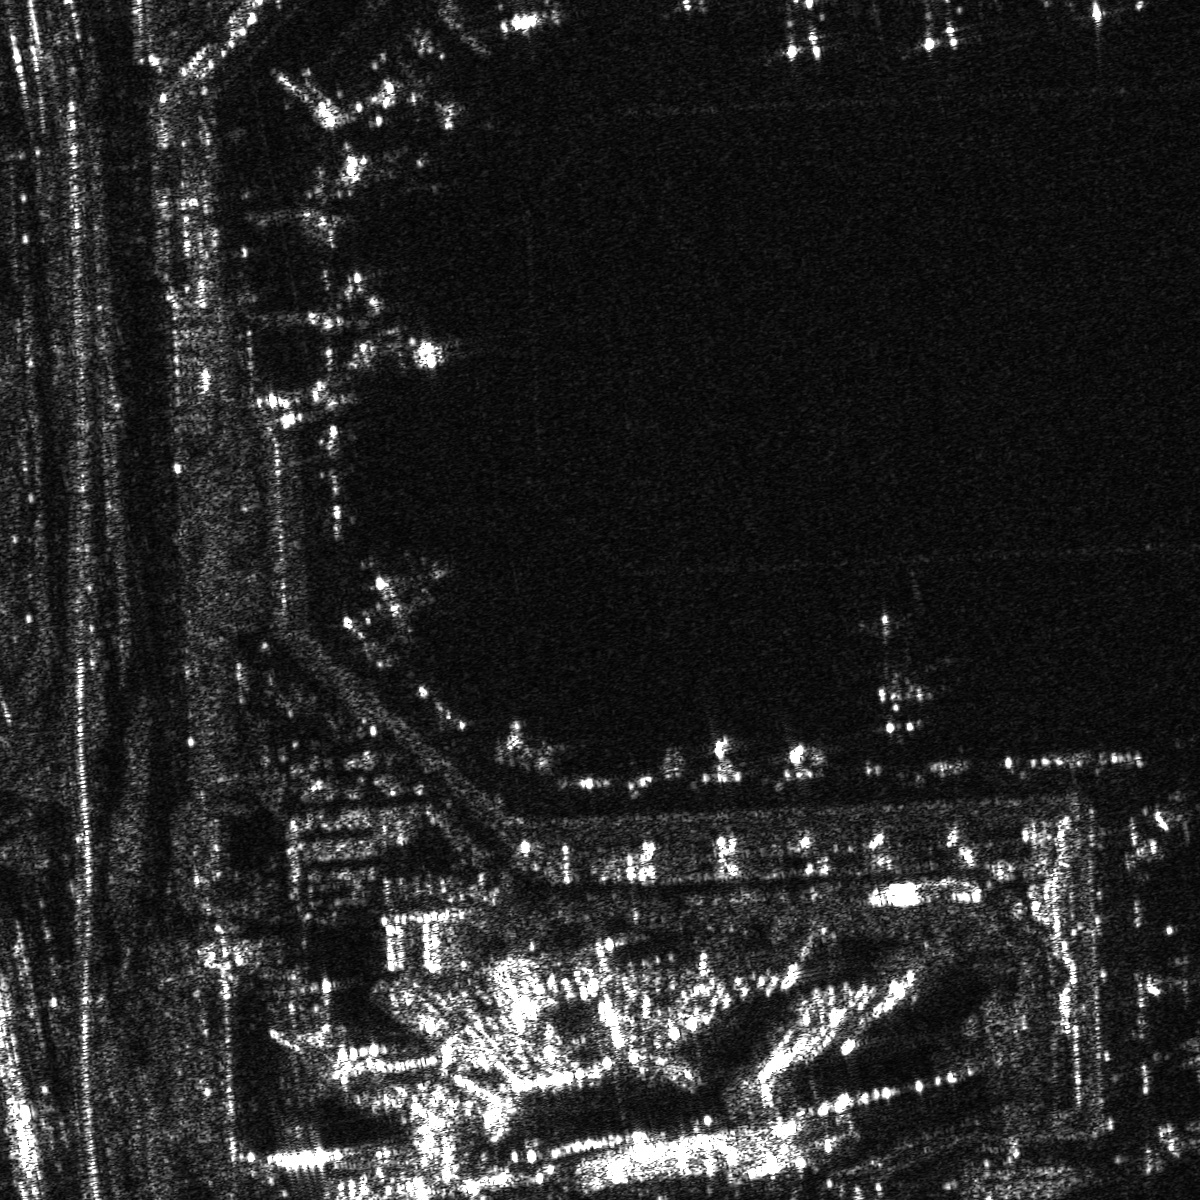A220: (362, 562, 451, 635), (1137, 943, 1199, 1021), (1140, 781, 1199, 851), (1152, 1108, 1199, 1176)
Boeing787: (862, 668, 943, 749)
